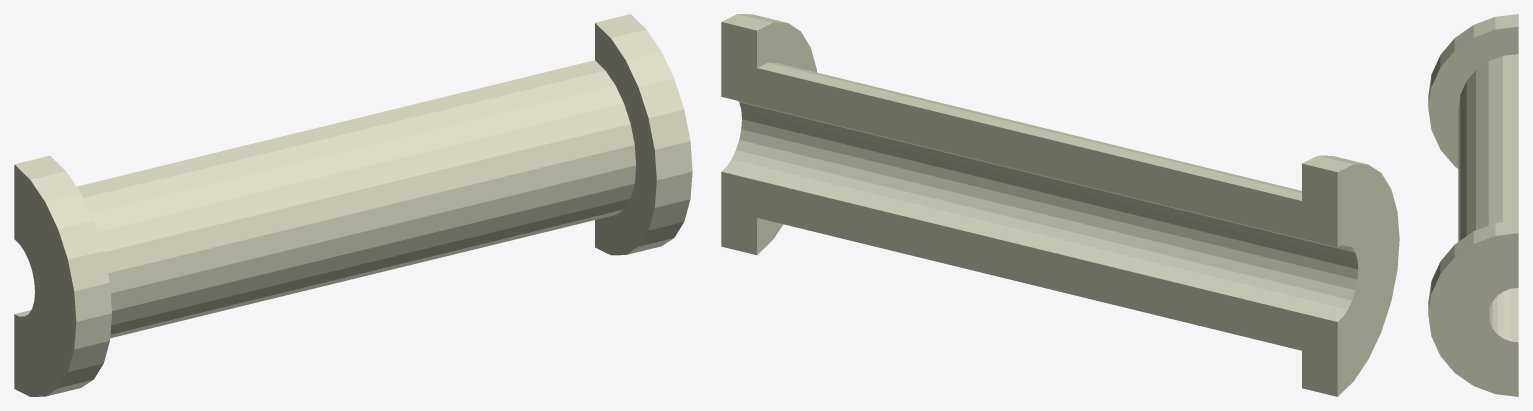
File: section_154.obj
3 renders of one model, left to right at view 1: azimuth 30°, elevation 25°; view 2: azimuth 150°, elevation 25°; view 3: azimuth 270°, elevation 25°, orthographic. The views are drawn at different scales.
Bounding box in the file's own units: 17.22 × 6 × 3.
